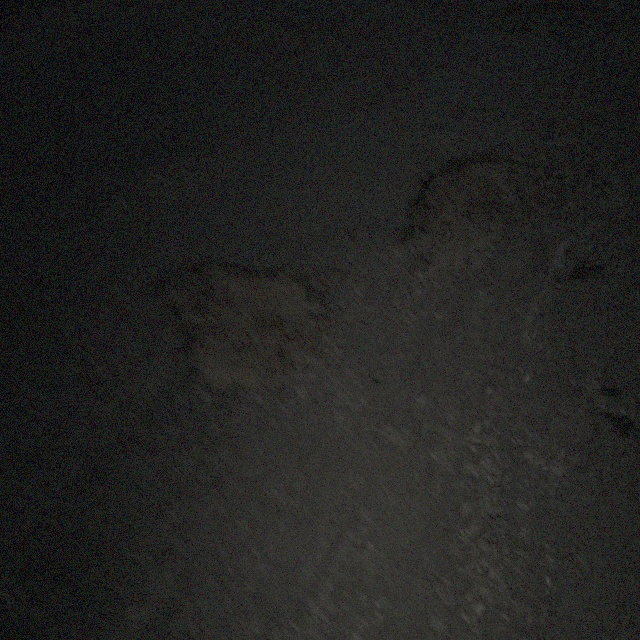pothole: (141, 250, 336, 398), (395, 150, 552, 284), (490, 0, 626, 41)
